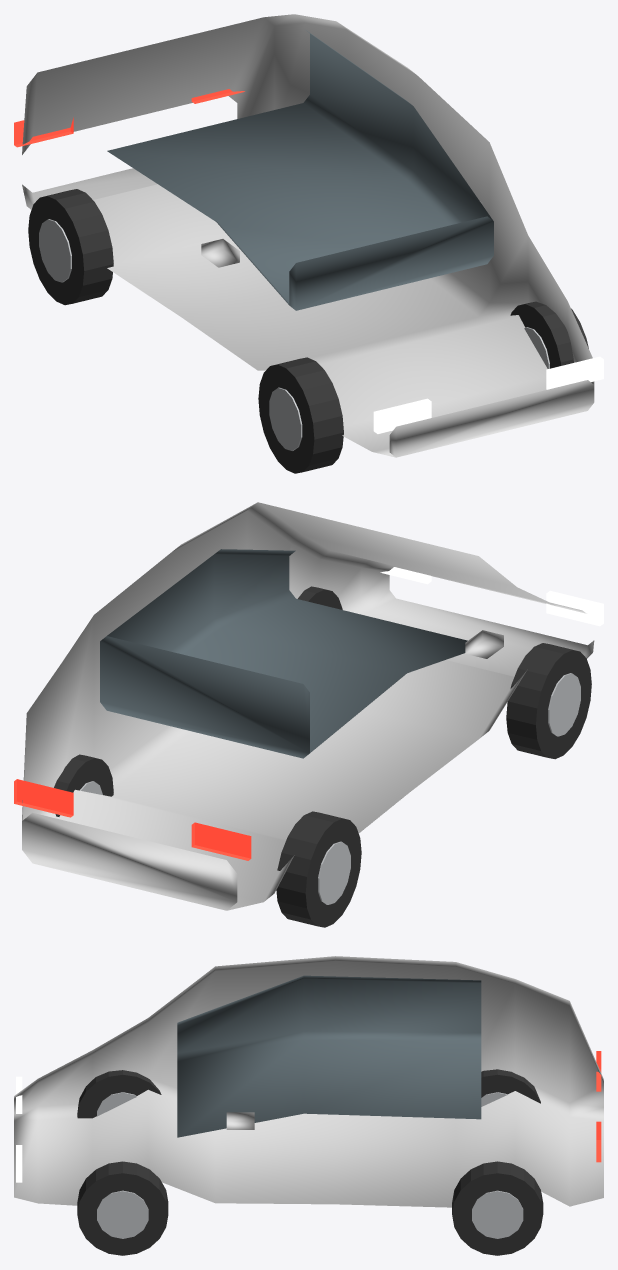
File: traffic-suv.glb
The picture shows the model from 3 angles, top to bottom: view 1: azimuth 30°, elevation 25°; view 2: azimuth 150°, elevation 25°; view 3: azimuth 270°, elevation 25°; orthographic projection. The views are drawn at different scales.
Parts seen in each view (by area): view 1: body, glass, wheel (×3), wheel-rim (×2), headlamp, taillight; view 2: body, glass, wheel (×4), wheel-rim (×2), taillight, headlamp; view 3: body, glass, wheel (×4), wheel-rim (×3), headlamp, taillight.
Part boxes in pixels (x1=…): body: x1=22, y1=14, x2=594, y2=457; glass: x1=107, y1=30, x2=493, y2=310; wheel (×3): x1=28, y1=189, x2=588, y2=473; wheel-rim (×2): x1=39, y1=219, x2=302, y2=450; headlamp: x1=373, y1=356, x2=603, y2=433; taillight: x1=14, y1=89, x2=244, y2=147; body: x1=22, y1=502, x2=594, y2=910; glass: x1=100, y1=549, x2=467, y2=758; wheel (×4): x1=54, y1=586, x2=591, y2=927; wheel-rim (×2): x1=318, y1=673, x2=580, y2=904; taillight: x1=14, y1=779, x2=251, y2=860; headlamp: x1=380, y1=567, x2=603, y2=626; body: x1=14, y1=956, x2=603, y2=1207; glass: x1=177, y1=975, x2=481, y2=1137; wheel (×4): x1=77, y1=1069, x2=543, y2=1255; wheel-rim (×3): x1=97, y1=1092, x2=523, y2=1238; headlamp: x1=16, y1=1076, x2=22, y2=1182; taillight: x1=596, y1=1051, x2=601, y2=1162.
Bounding box in the file's own units: 2.12 × 1.74 × 4.66.
